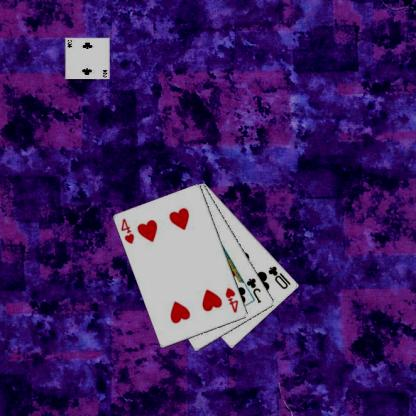10C: (266, 263, 292, 290)
4H: (223, 285, 240, 314), (119, 216, 136, 245)
JC: (244, 275, 262, 305)
